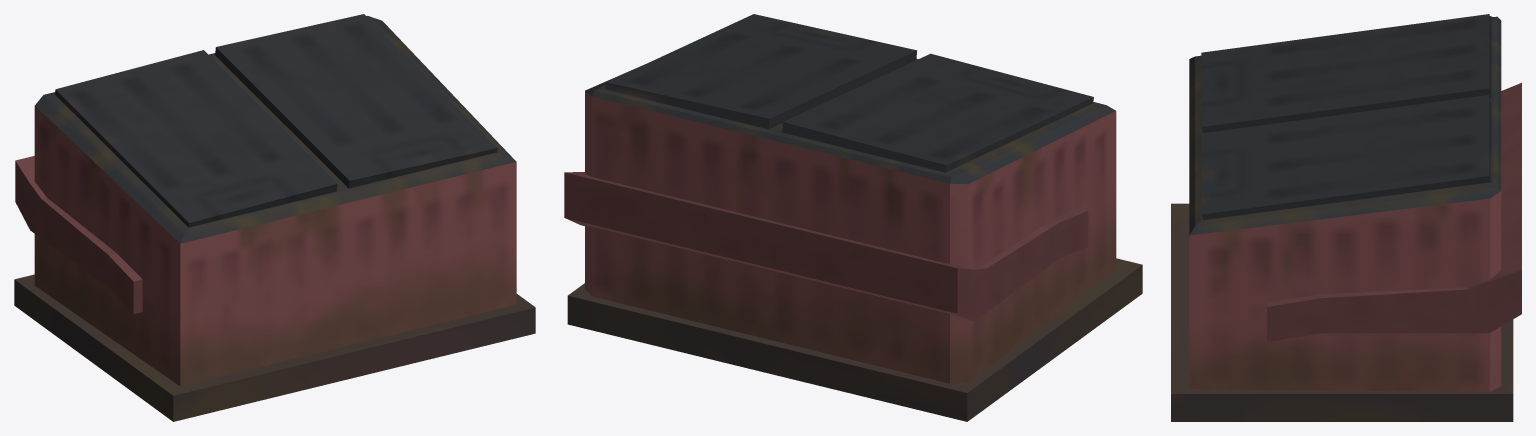
File: dumpster_withUV.fbx
3 renders of one model, left to right at view 1: azimuth 30°, elevation 25°; view 2: azimuth 150°, elevation 25°; view 3: azimuth 270°, elevation 25°, orthographic. The views are drawn at different scales.
Visible parts, largest first — view 1: Cube; view 2: Cube; view 3: Cube.
Part boxes in pixels (x1,y1,x2,y2): Cube: (14,14,535,421); Cube: (564,14,1142,421); Cube: (1171,14,1521,421).
Size of the model in its own units: 221 by 128 by 172.
